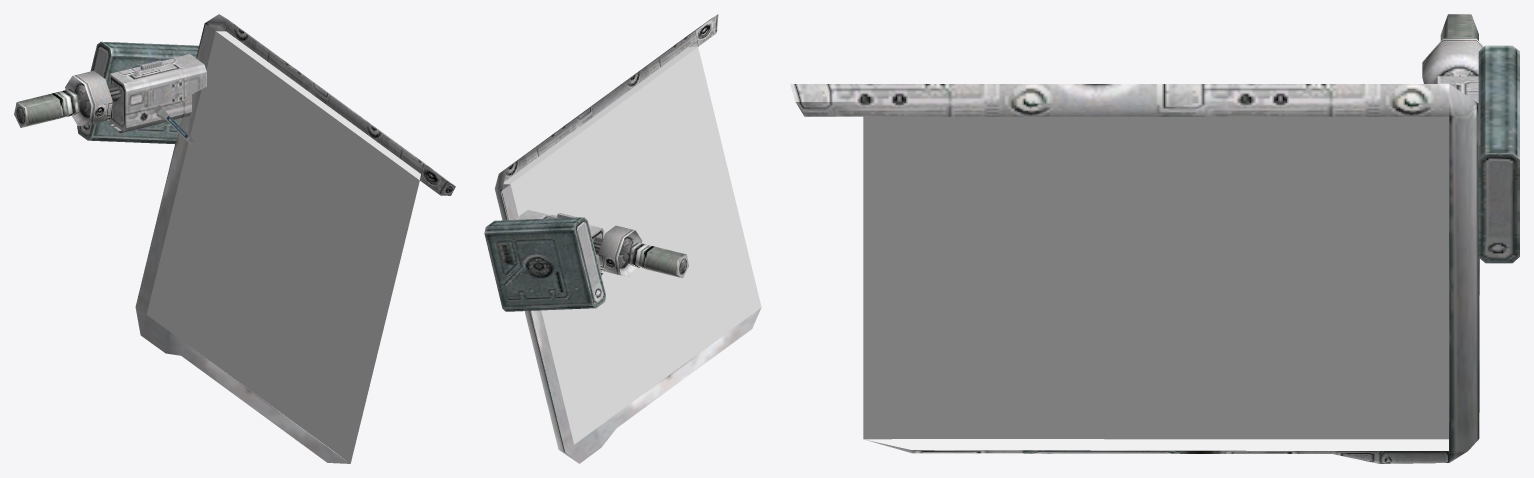
The model's file is eqp_monitorscreen_text_s01_l0.fbx.
3 renders of one model, left to right at view 1: azimuth 30°, elevation 25°; view 2: azimuth 150°, elevation 25°; view 3: azimuth 270°, elevation 25°, orthographic. The views are drawn at different scales.
Parts seen in each view (by area): view 1: mesh_node; view 2: mesh_node; view 3: mesh_node.
Boxes of the visible parts, <box> form: mesh_node: <box>14,14,455,463</box>; mesh_node: <box>484,14,761,463</box>; mesh_node: <box>790,14,1519,463</box>.
Size of the model in its own units: 0.5181 by 0.7342 by 1.12.
